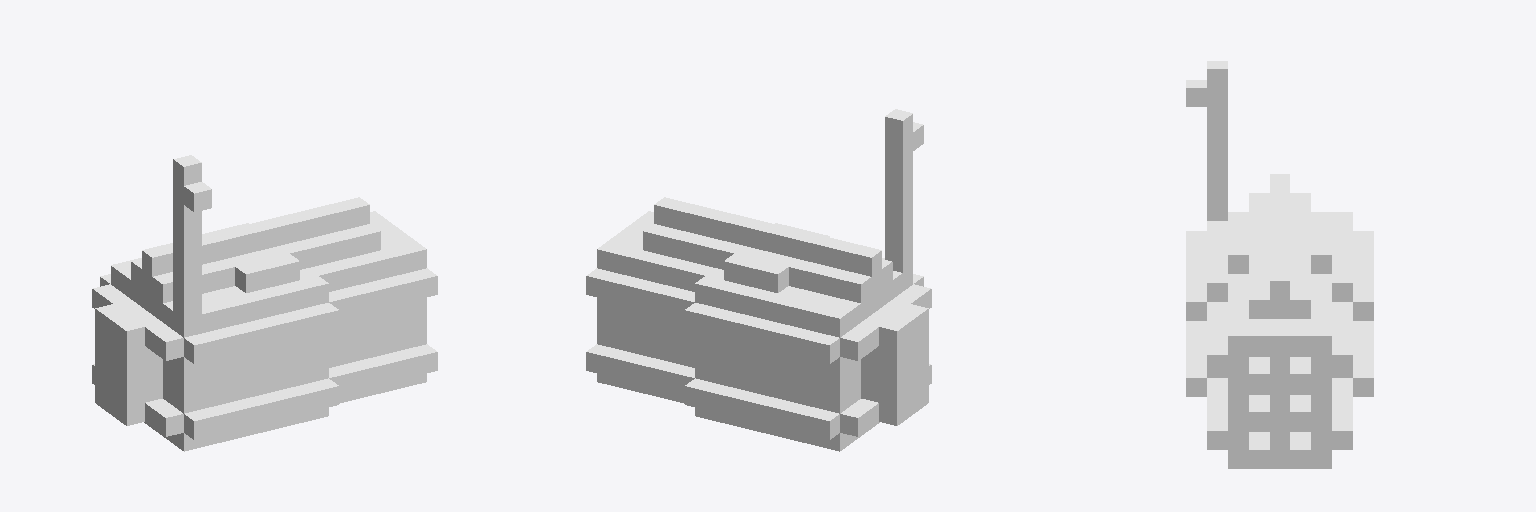
Rendered from turrets_top.obj.
3 renders of one model, left to right at view 1: azimuth 30°, elevation 25°; view 2: azimuth 150°, elevation 25°; view 3: azimuth 270°, elevation 25°, orthographic.
Parts seen in each view (by area): view 1: object 1; view 2: object 1; view 3: object 1.
Boxes of the visible parts, x1=… form: object 1: x1=92, y1=155, x2=437, y2=451; object 1: x1=586, y1=109, x2=931, y2=451; object 1: x1=1186, y1=61, x2=1373, y2=468.
Size of the model in its own units: 1.6 by 1.5 by 0.9.